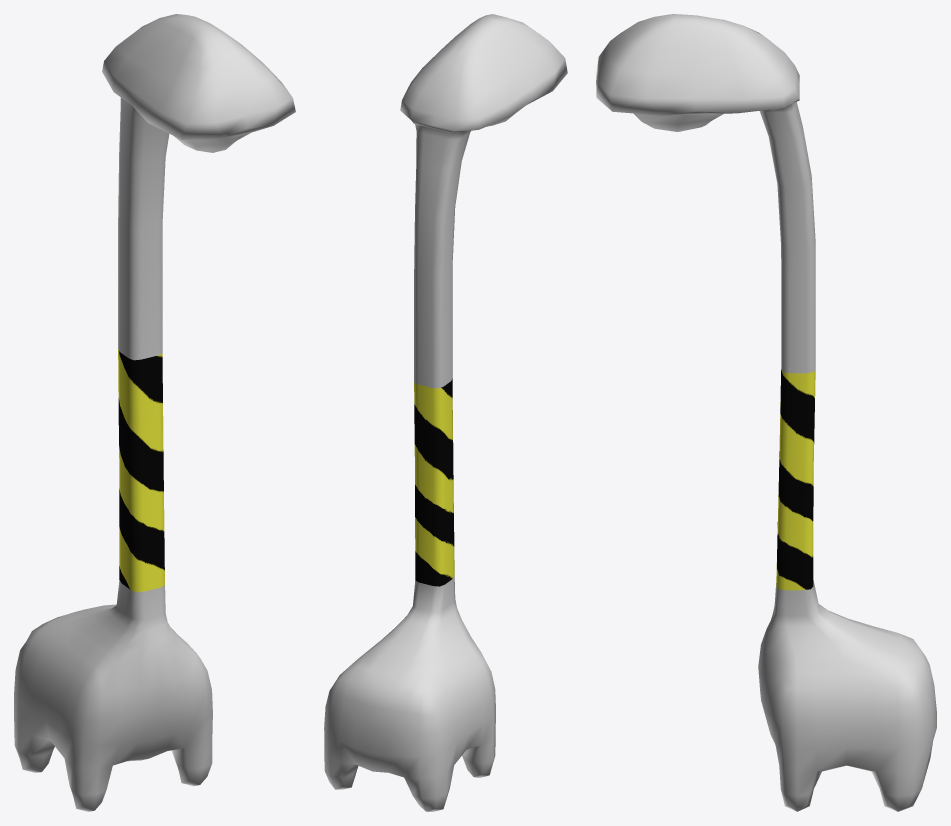
Rendered from gilight.fbx.
The picture shows the model from 3 angles, left to right: view 1: azimuth 30°, elevation 25°; view 2: azimuth 150°, elevation 25°; view 3: azimuth 270°, elevation 25°; orthographic projection. The views are drawn at different scales.
Parts seen in each view (by area): view 1: pCube9; view 2: pCube9; view 3: pCube9.
Part boxes in pixels (box(x1,y1,x2,y2)): pCube9: box(14, 14, 295, 811); pCube9: box(324, 14, 567, 811); pCube9: box(596, 14, 936, 811).
Bounding box in the file's own units: 1.36 × 7.71 × 3.09.
